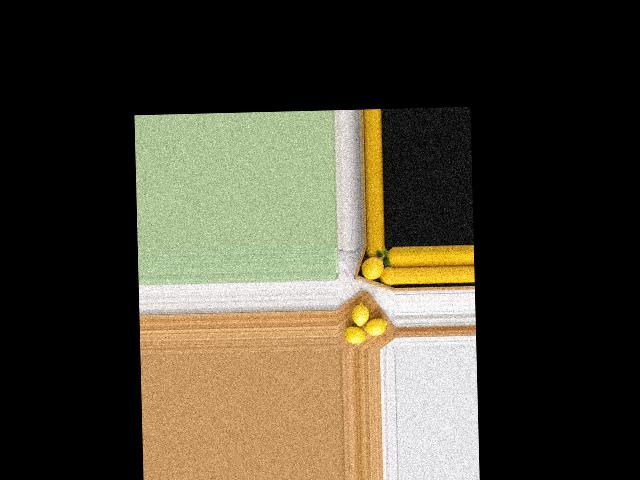lemon: (340, 321, 366, 346)
